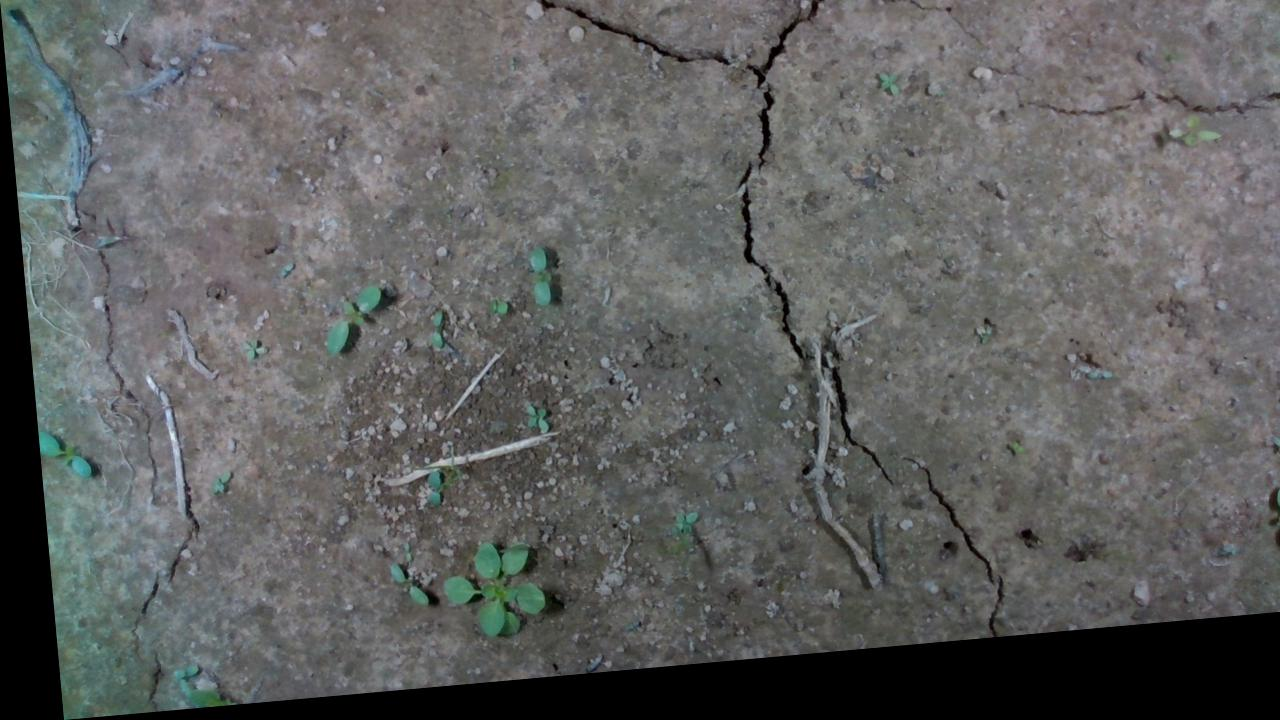weed: (311, 287, 380, 360), (1161, 129, 1214, 178), (373, 564, 420, 618), (512, 253, 549, 319), (1258, 501, 1279, 577), (229, 342, 265, 373), (870, 85, 902, 116), (418, 317, 439, 362), (515, 409, 538, 449), (264, 260, 296, 285), (662, 521, 689, 550), (474, 304, 503, 331), (195, 471, 225, 497)
